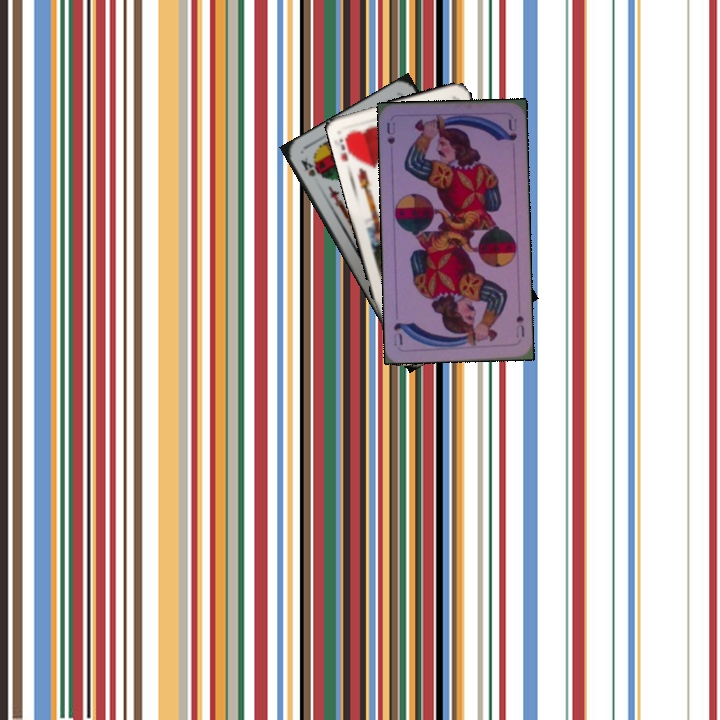HK: (334, 129, 359, 165)
SK: (297, 154, 322, 179)
SU: (383, 118, 398, 147), (512, 311, 527, 340)
